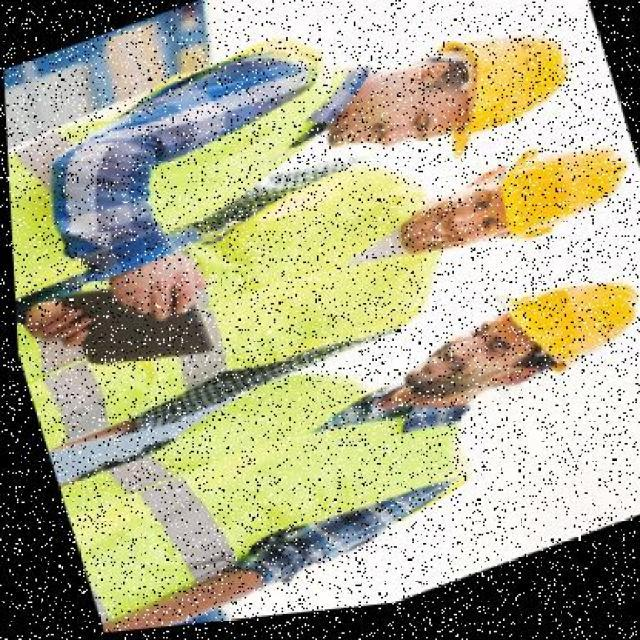helmet: (406, 9, 590, 182), (473, 125, 639, 267), (493, 263, 639, 401)
vest: (9, 174, 455, 457), (45, 340, 474, 634), (3, 31, 373, 301)
